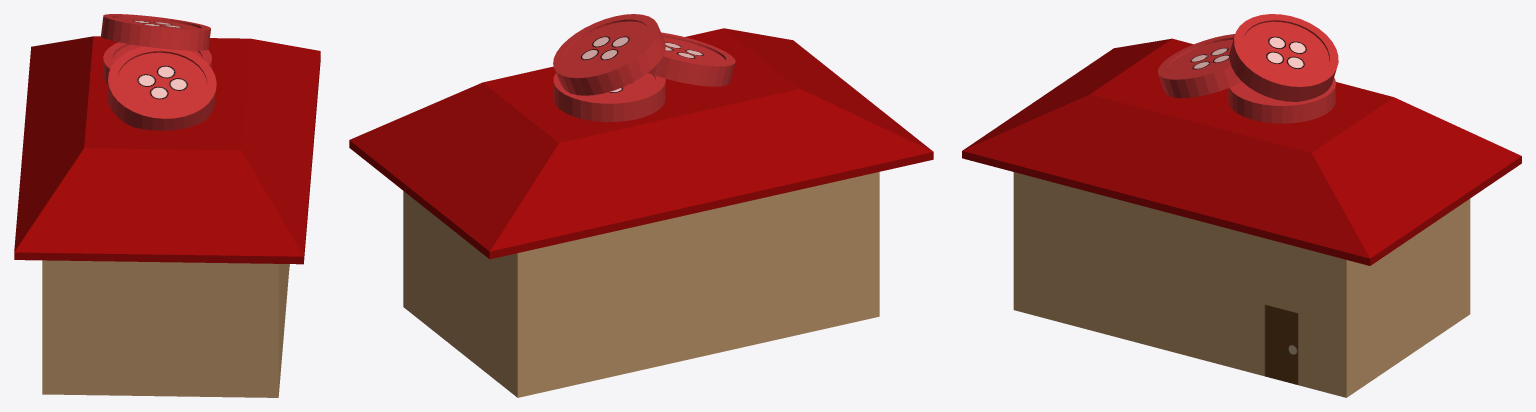
File: cutUp-Town-shop.fbx
The picture shows the model from 3 angles, left to right: view 1: azimuth 30°, elevation 25°; view 2: azimuth 150°, elevation 25°; view 3: azimuth 270°, elevation 25°; orthographic projection. The views are drawn at different scales.
Parts seen in each view (by area): view 1: Shop, Button.001, Button.002, Button; view 2: Shop, Button.002, Button, Button.001; view 3: Shop, Button.002, Button.001, Button.
Boxes of the visible parts, x1=… form: Shop: x1=14, y1=36, x2=320, y2=397; Button.001: x1=106, y1=46, x2=216, y2=130; Button.002: x1=101, y1=14, x2=210, y2=50; Button: x1=103, y1=42, x2=211, y2=84; Shop: x1=349, y1=28, x2=933, y2=397; Button.002: x1=553, y1=14, x2=665, y2=95; Button: x1=553, y1=73, x2=665, y2=121; Button.001: x1=648, y1=32, x2=735, y2=86; Shop: x1=962, y1=38, x2=1521, y2=397; Button.002: x1=1229, y1=14, x2=1338, y2=101; Button.001: x1=1158, y1=34, x2=1241, y2=98; Button: x1=1228, y1=78, x2=1335, y2=123.
Bounding box in the file's own units: 925 × 584 × 1040.
2 materials, 2 textured.
